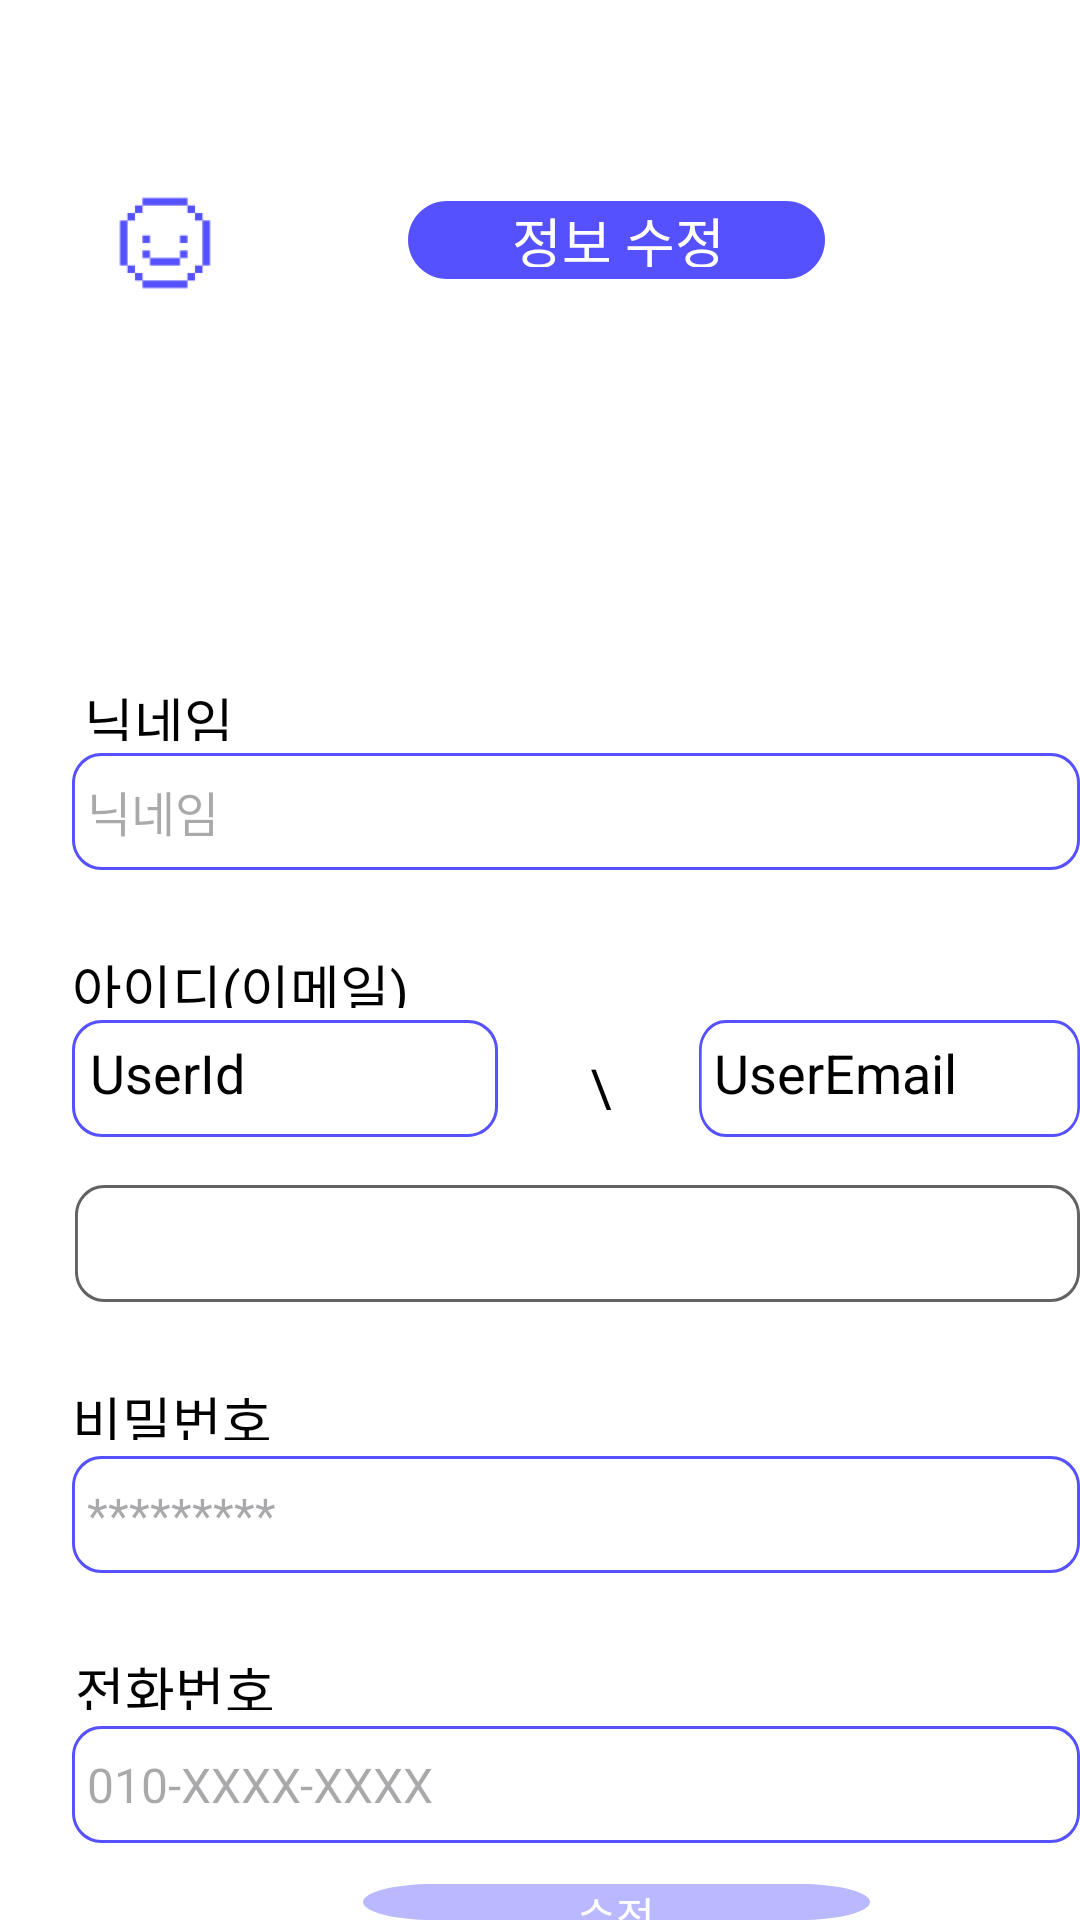

Point at icon controls on the screen. Image size 1080x1920, points as point (x, y).
smile: point (165, 243)
